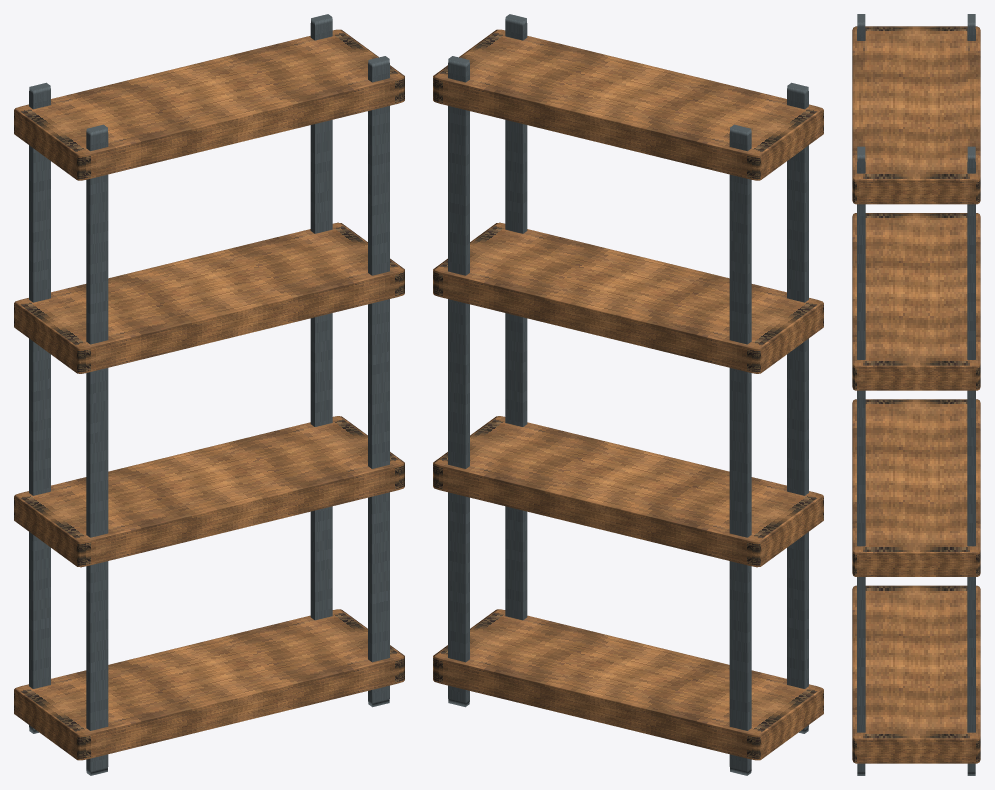
Rendered from bookcase.glb.
The picture shows the model from 3 angles, left to right: view 1: azimuth 30°, elevation 25°; view 2: azimuth 150°, elevation 25°; view 3: azimuth 270°, elevation 25°; orthographic projection. The views are drawn at different scales.
Parts seen in each view (by area): view 1: shelf (×4), leg (×4); view 2: shelf (×4), leg (×4); view 3: shelf (×4), leg (×2).
Boxes of the visible parts, left/top/right/bottom form: shelf (×4): left=14, top=29, right=404, bottom=760; leg (×4): left=29, top=14, right=389, bottom=775; shelf (×4): left=433, top=29, right=823, bottom=760; leg (×4): left=448, top=14, right=808, bottom=775; shelf (×4): left=852, top=26, right=980, bottom=763; leg (×2): left=857, top=146, right=975, bottom=775.
Bounding box in the file's own units: 0.91 × 1.71 × 0.32.
2 materials, 2 textured.
